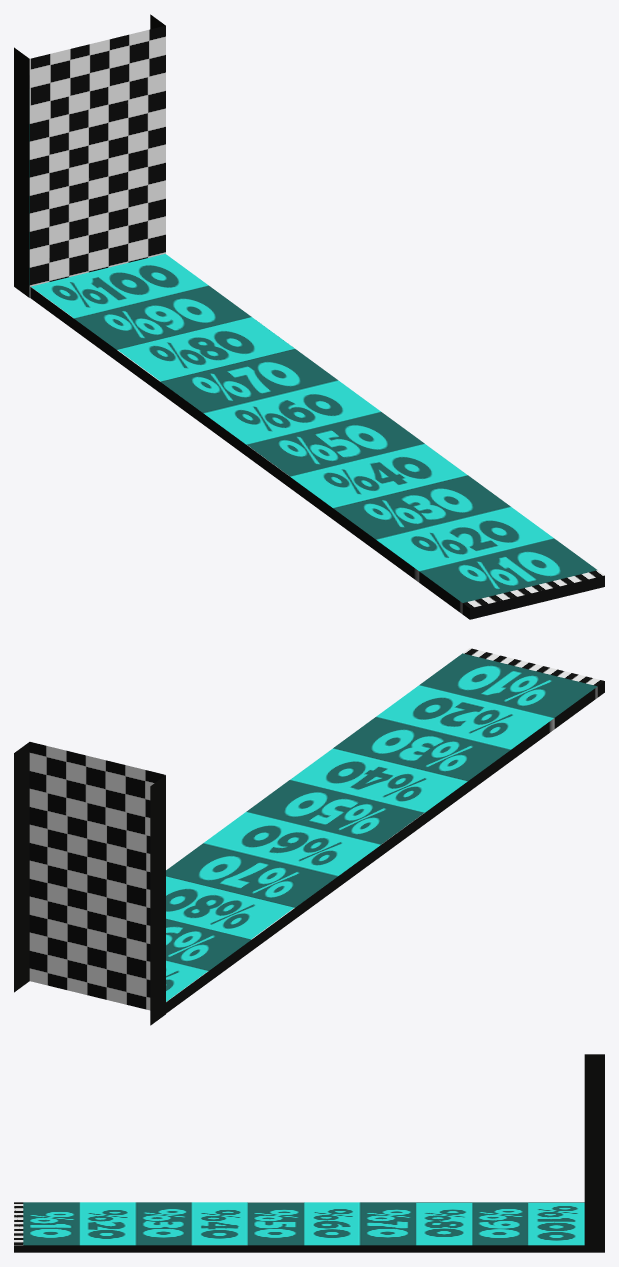
Rendered from Finish.fbx.
3 renders of one model, top to bottom at view 1: azimuth 30°, elevation 25°; view 2: azimuth 150°, elevation 25°; view 3: azimuth 270°, elevation 25°, orthographic. The views are drawn at different scales.
Visible parts, largest first — view 1: Finish, BitisBlogu, BitisCizgisi; view 2: Finish, BitisBlogu, BitisCizgisi; view 3: Finish, BitisBlogu, BitisCizgisi.
Part boxes in pixels (x1,y1,x2,y2): Finish: (30,254,597,614); BitisBlogu: (14,14,165,297); BitisCizgisi: (462,570,604,619); Finish: (166,653,597,1013); BitisBlogu: (14,742,165,1025); BitisCizgisi: (463,648,604,697); Finish: (23,1202,584,1252); BitisBlogu: (584,1054,604,1252); BitisCizgisi: (14,1202,23,1252).
Bounding box in the file's own units: 314 × 528 × 1819.
